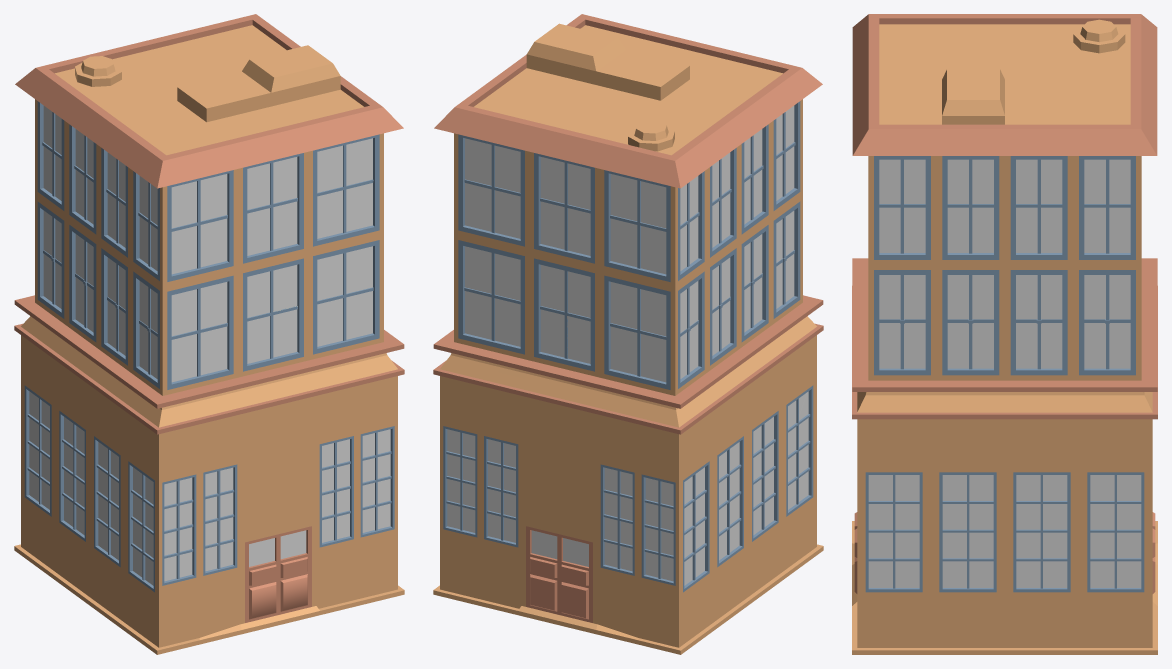
The model's file is cb-apartment-E.fbx.
3 renders of one model, left to right at view 1: azimuth 30°, elevation 25°; view 2: azimuth 150°, elevation 25°; view 3: azimuth 270°, elevation 25°, orthographic. The views are drawn at different scales.
Parts seen in each view (by area): view 1: cb-apartment-E; view 2: cb-apartment-E; view 3: cb-apartment-E.
Boxes of the visible parts, x1=… form: cb-apartment-E: x1=14, y1=14, x2=404, y2=654; cb-apartment-E: x1=433, y1=14, x2=823, y2=654; cb-apartment-E: x1=852, y1=14, x2=1157, y2=654.
Size of the model in its own units: 9.16 by 17.86 by 9.16.
